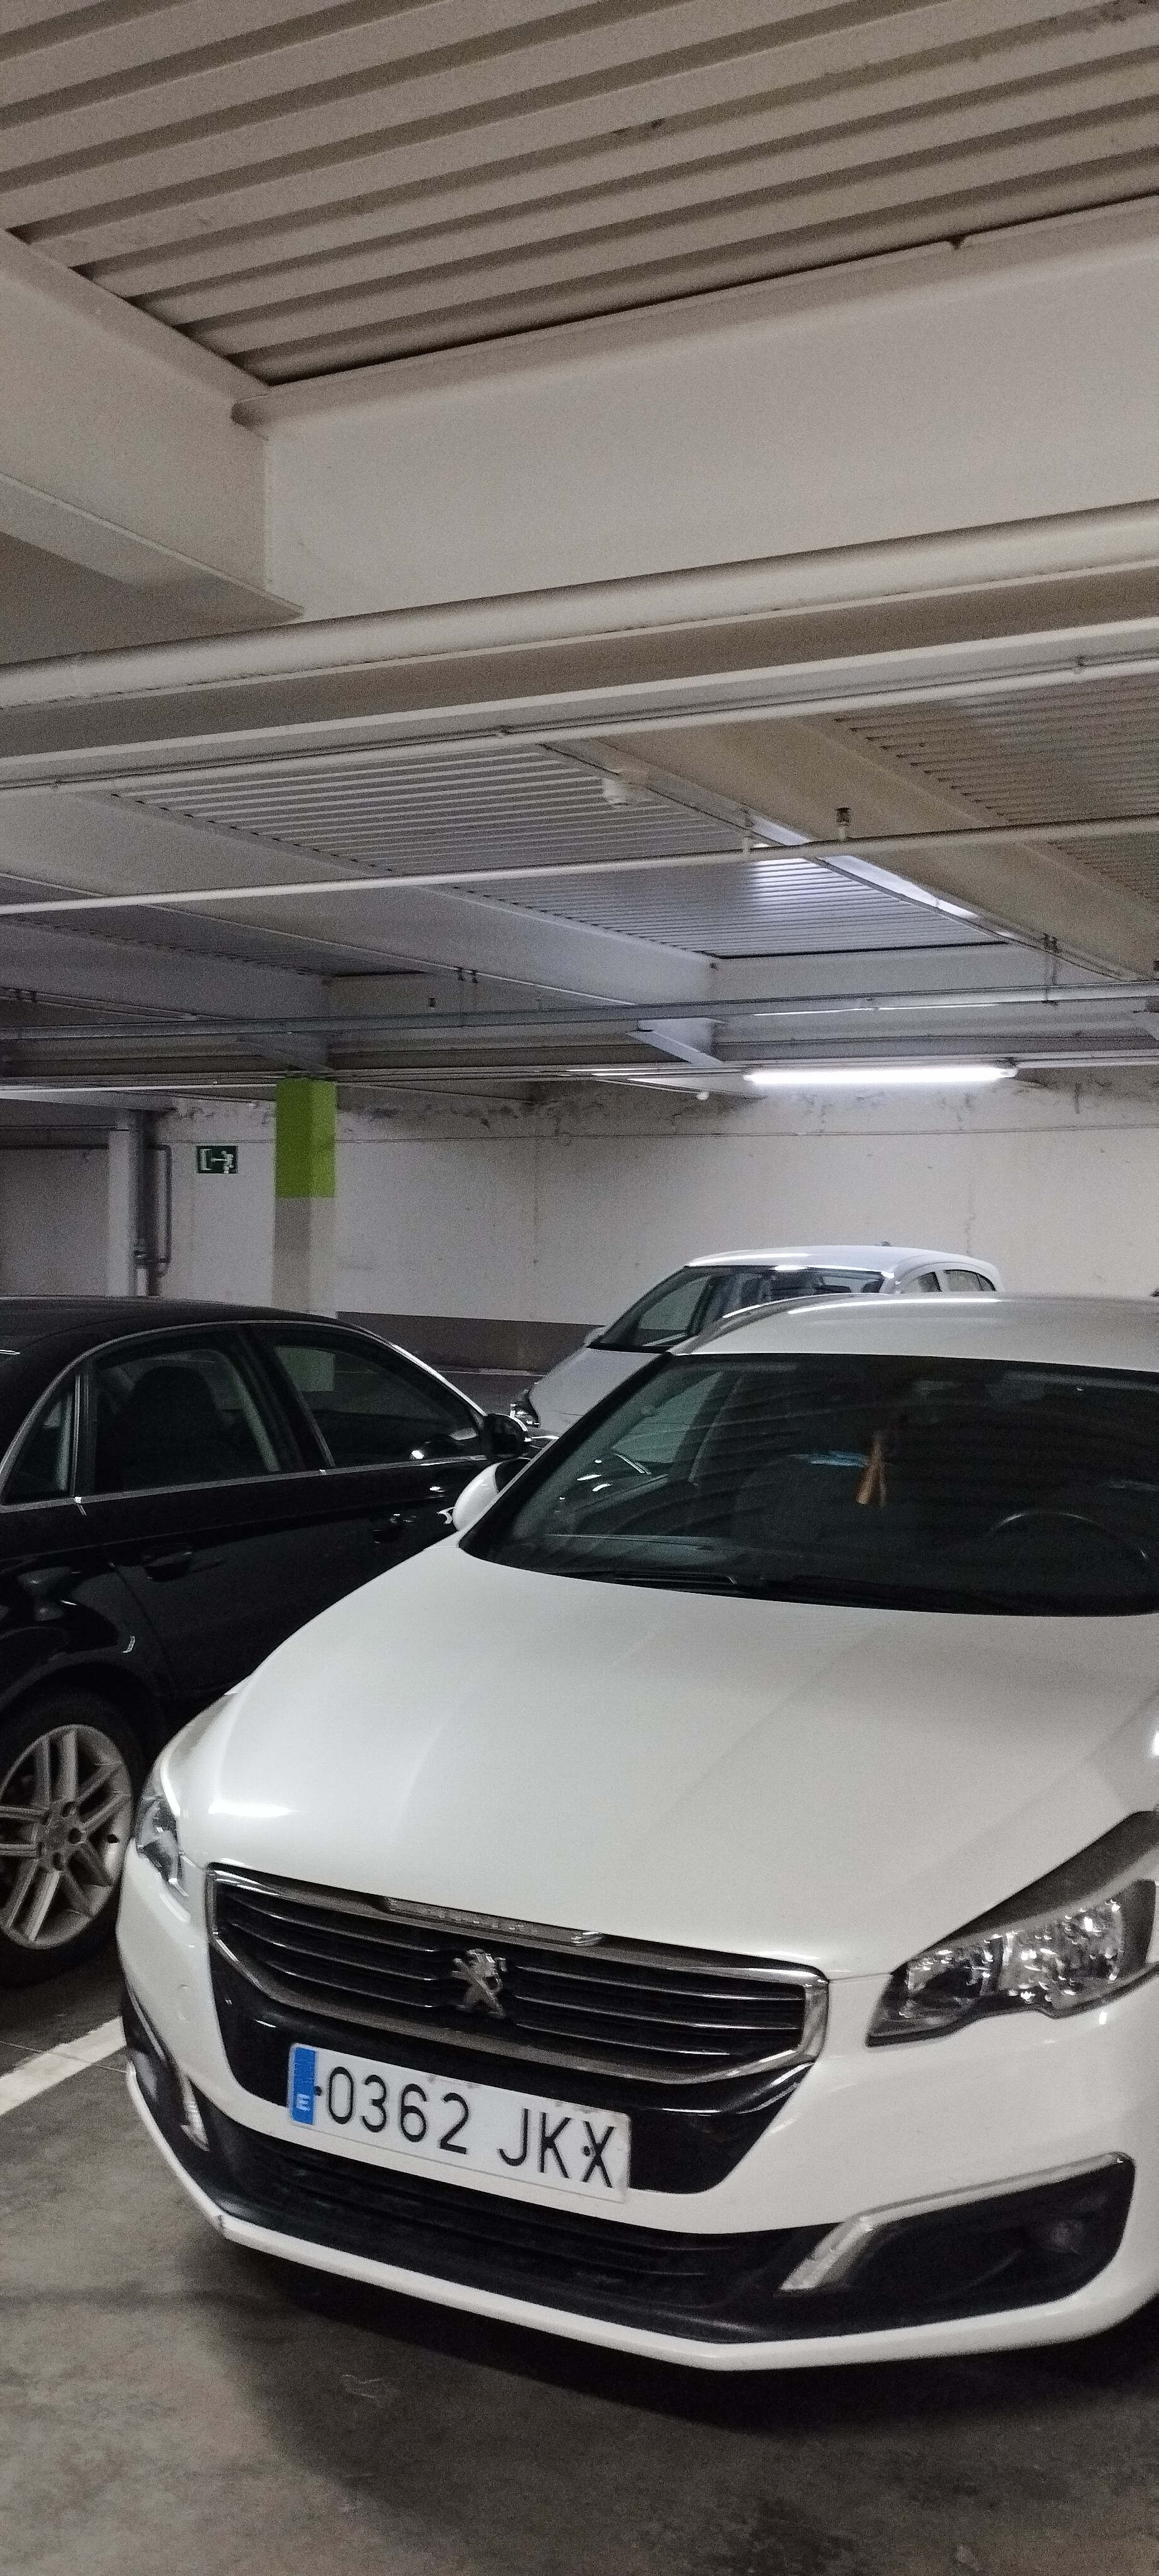Car: (111, 1289, 1158, 2369)
Plate: (304, 2039, 643, 2132)
